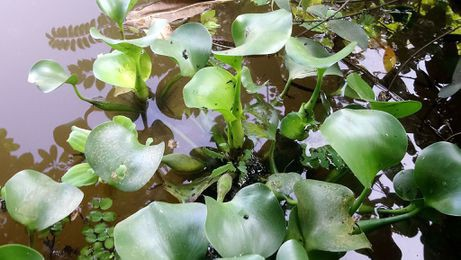water_hyacinth: (3, 1, 460, 258)
